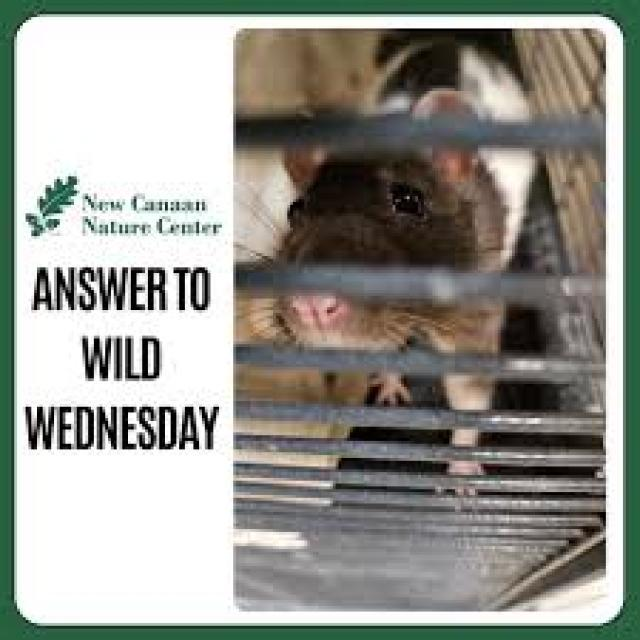Rat: (281, 89, 504, 412)
